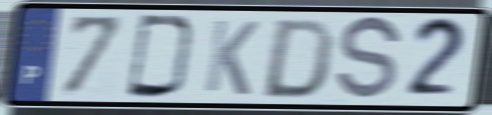2: (401, 15, 472, 106)
7: (63, 13, 128, 99)
D: (257, 16, 338, 101), (123, 12, 199, 101)
K: (202, 16, 262, 98)
S: (332, 13, 405, 106)
